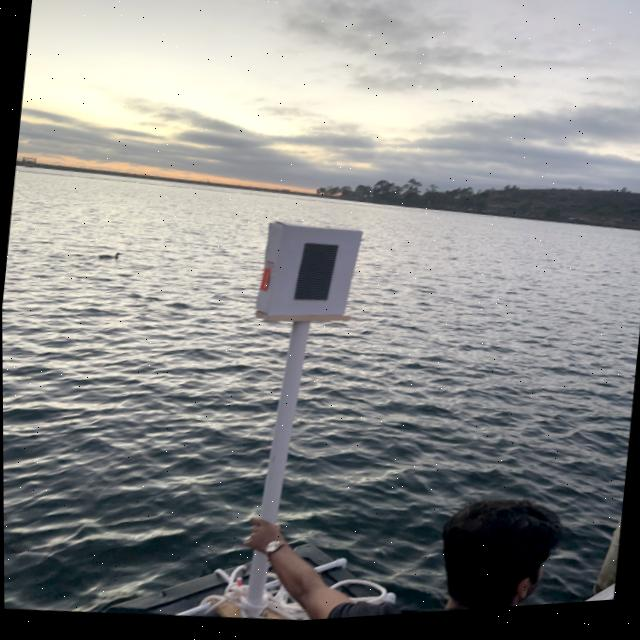led: (271, 227, 352, 333)
